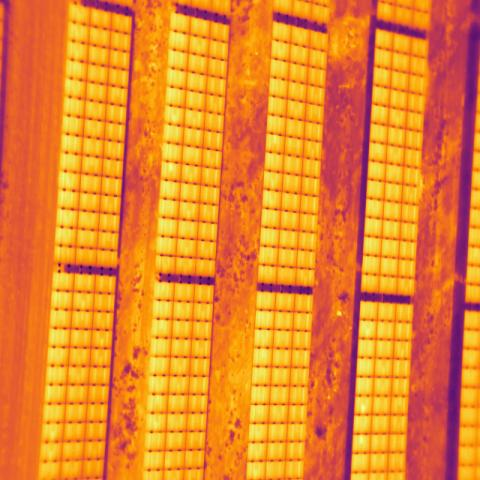fault: (352, 434, 372, 456), (355, 396, 373, 416)
